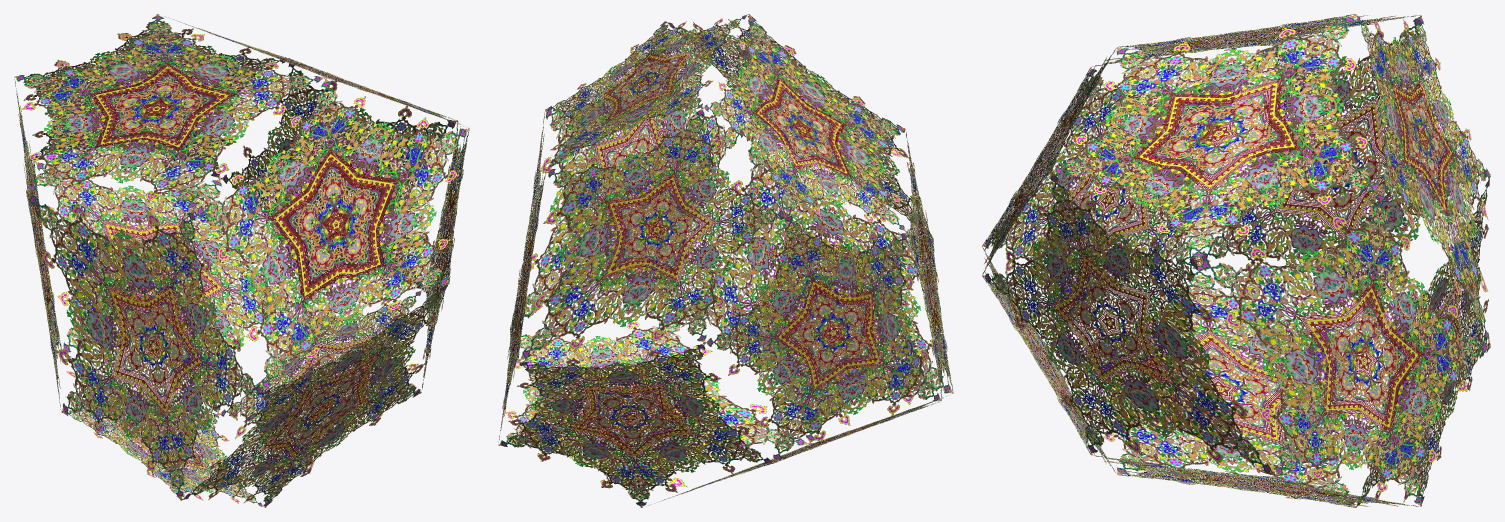
The model's file is Tetartoid11.obj.
3 renders of one model, left to right at view 1: azimuth 30°, elevation 25°; view 2: azimuth 150°, elevation 25°; view 3: azimuth 270°, elevation 25°, orthographic. The views are drawn at different scales.
Size of the model in its own units: 22 by 22 by 22.
Materials: 1 (1 with a texture image).
